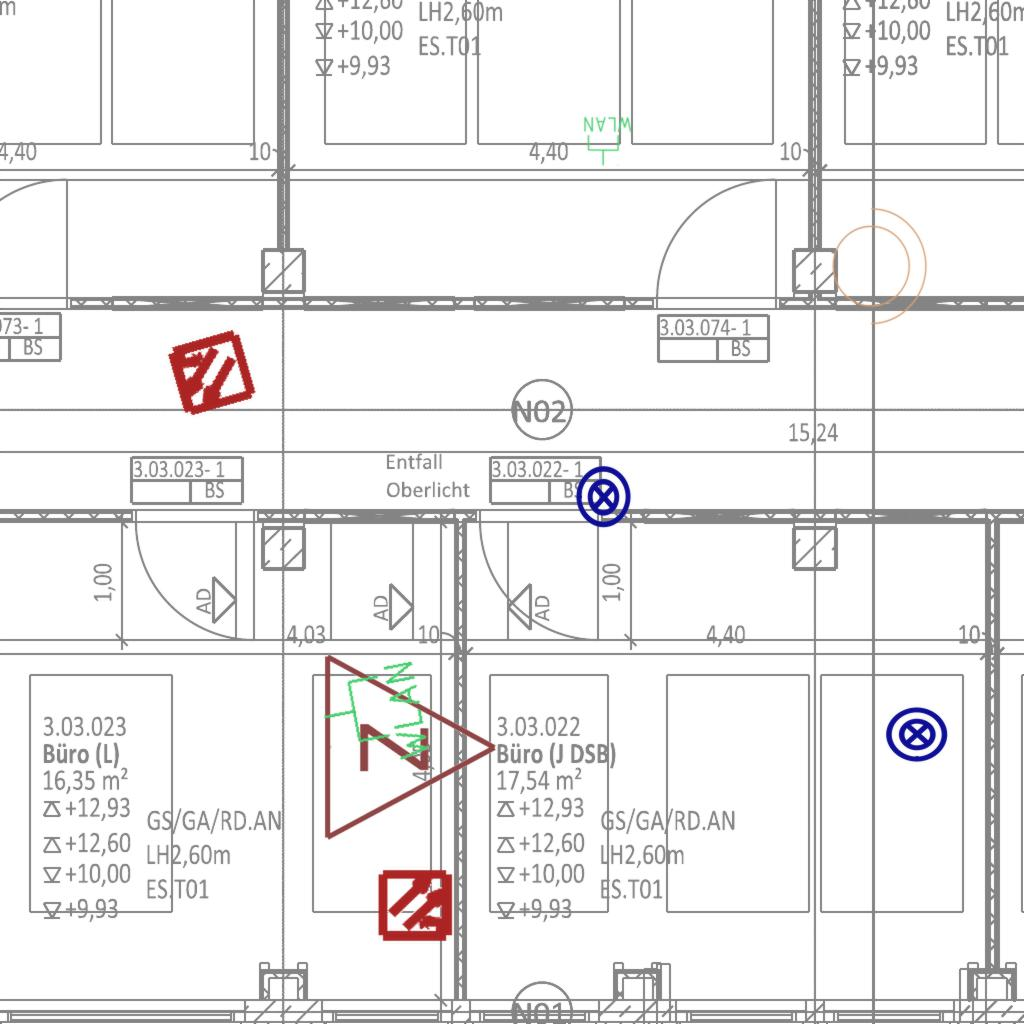OT_Multisensormelder_(Kombination_RMO_WMD): (139, 303, 280, 444), (361, 849, 474, 962)
Scheinwerfer_fuer_Alarmbeleuchtung: (820, 197, 932, 329)
Taster_beleuchtet: (884, 701, 950, 767), (571, 464, 637, 530)
WLAN: (312, 656, 436, 779), (582, 115, 634, 167)
Zimmersignalleuchte: (310, 647, 510, 843)
